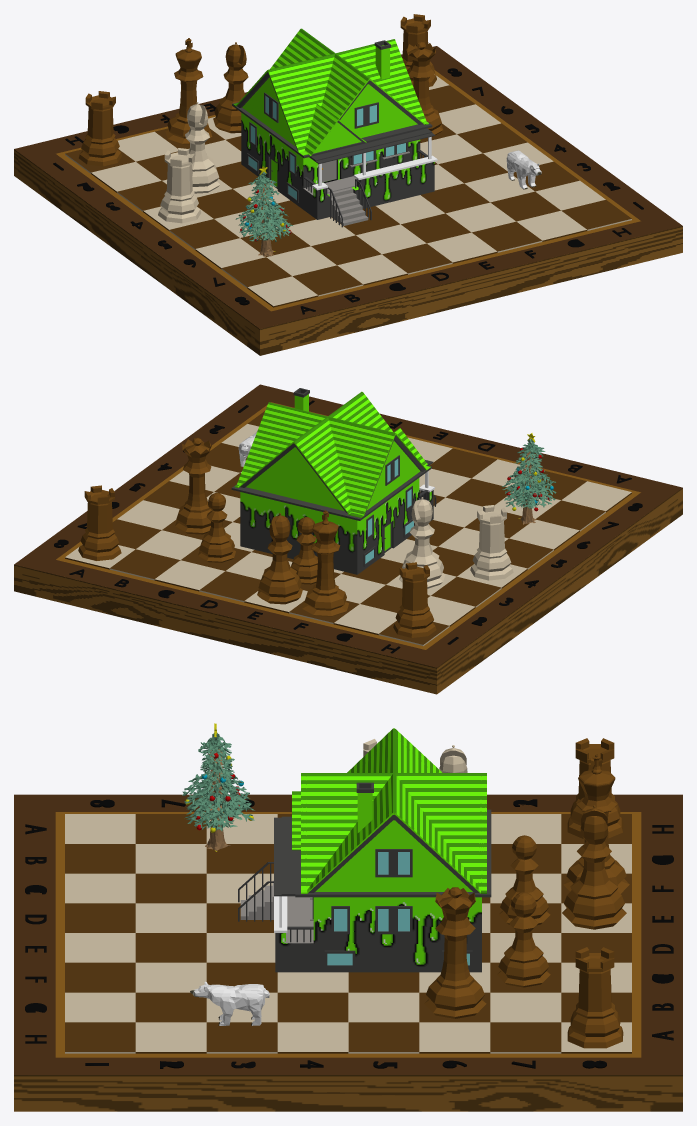
3 views of the same model, one above another, from view 1: azimuth 30°, elevation 25°; view 2: azimuth 150°, elevation 25°; view 3: azimuth 270°, elevation 25° (orthographic). The views are drawn at different scales.
Parts seen in each view (by area): view 1: Cube.002, Cube.754, OBJRANDOM_CHRISTMAS_TREE, ANIMAL_OSO_POLAR; view 2: Cube.002, Cube.754, OBJRANDOM_CHRISTMAS_TREE; view 3: Cube.002, Cube.754, OBJRANDOM_CHRISTMAS_TREE, ANIMAL_OSO_POLAR.
Boxes of the visible parts, x1,y1,x2,y2 form: Cube.002: (14,14,682,355); Cube.754: (232,28,437,227); OBJRANDOM_CHRISTMAS_TREE: (235,166,292,256); ANIMAL_OSO_POLAR: (506,150,541,189); Cube.002: (14,384,682,694); Cube.754: (231,388,436,574); OBJRANDOM_CHRISTMAS_TREE: (502,433,556,524); Cube.002: (14,738,682,1111); Cube.754: (238,728,491,972); OBJRANDOM_CHRISTMAS_TREE: (182,723,254,851); ANIMAL_OSO_POLAR: (190,981,269,1025).
Size of the model in its own units: 3981 by 1492 by 4012.
Materials: 26 (3 with a texture image).
